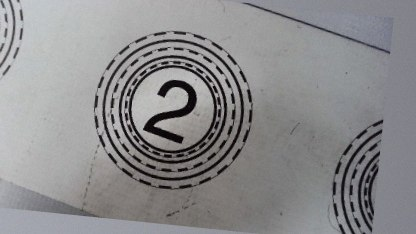2r: (79, 23, 261, 199)
